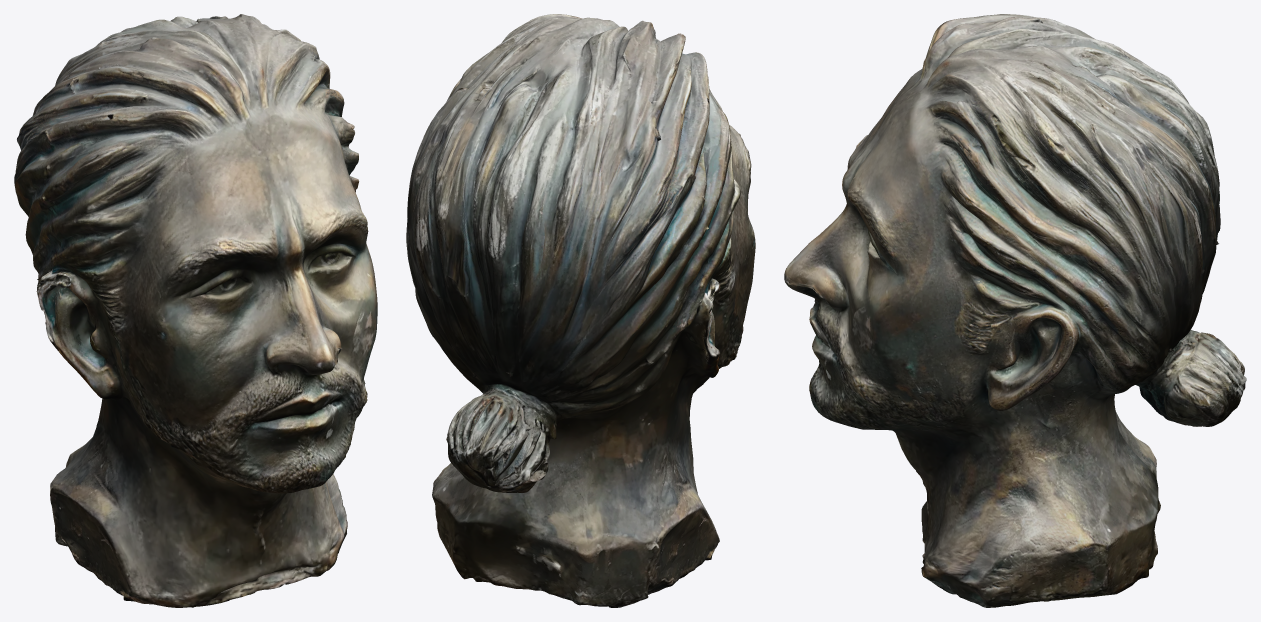
Rendered from bronce.glb.
The picture shows the model from 3 angles, left to right: view 1: azimuth 30°, elevation 25°; view 2: azimuth 150°, elevation 25°; view 3: azimuth 270°, elevation 25°; orthographic projection. The views are drawn at different scales.
Visible parts, largest first — view 1: tripo_node_9acc1ce6-b8ca-4c1a-b372-18b08b0aba8e; view 2: tripo_node_9acc1ce6-b8ca-4c1a-b372-18b08b0aba8e; view 3: tripo_node_9acc1ce6-b8ca-4c1a-b372-18b08b0aba8e.
Boxes of the visible parts, bbox=[...] form: tripo_node_9acc1ce6-b8ca-4c1a-b372-18b08b0aba8e: bbox=[14, 14, 377, 607]; tripo_node_9acc1ce6-b8ca-4c1a-b372-18b08b0aba8e: bbox=[406, 14, 755, 607]; tripo_node_9acc1ce6-b8ca-4c1a-b372-18b08b0aba8e: bbox=[784, 14, 1246, 607].
Size of the model in its own units: 0.5565 by 0.9798 by 0.7902.
1 material, 1 textured.
